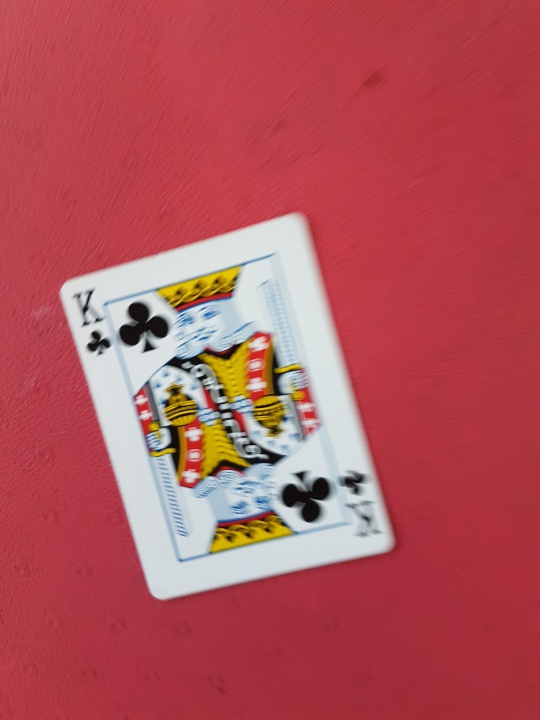king: (52, 205, 416, 628)
